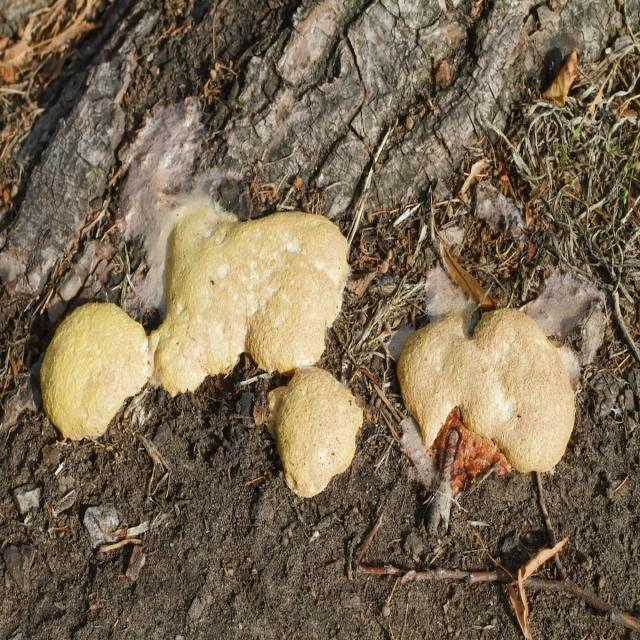Dog_vomit_slime_mold: (38, 197, 352, 444), (394, 296, 579, 538)
